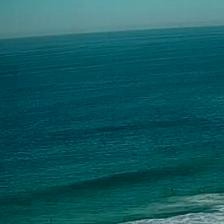surfer: (49, 218, 52, 222), (171, 188, 175, 191)
